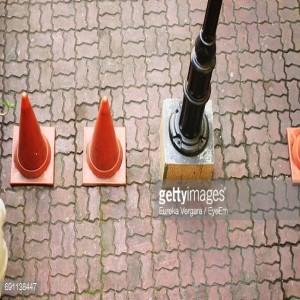traffic cone: (10, 91, 55, 186), (83, 96, 126, 186)
